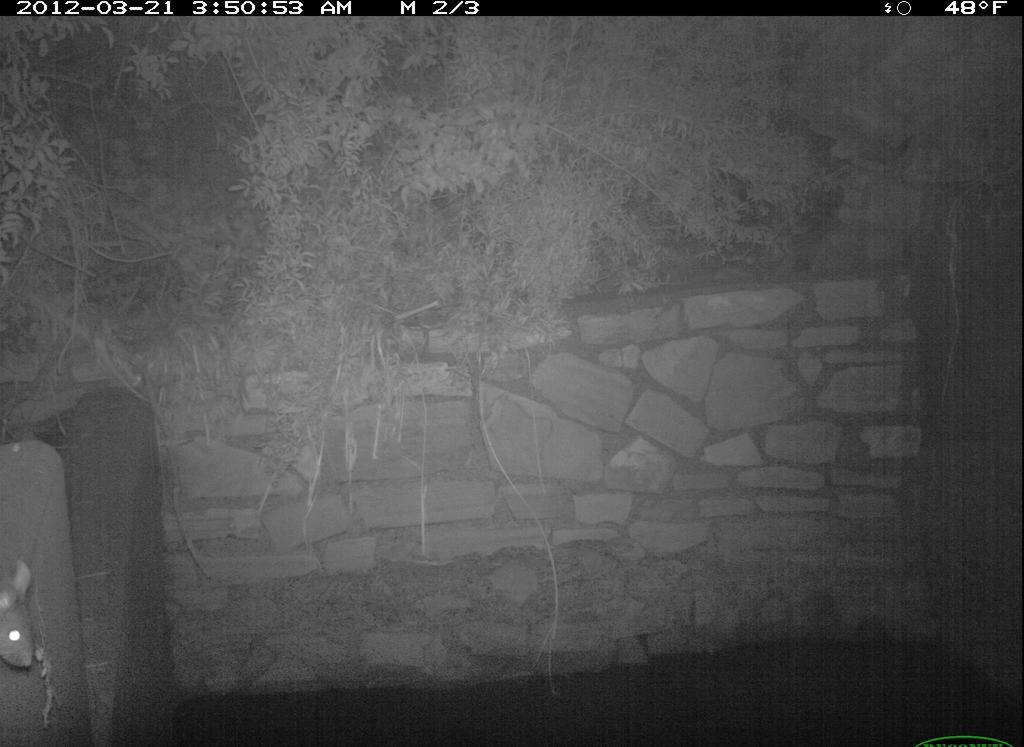rodent: (4, 546, 65, 684)
